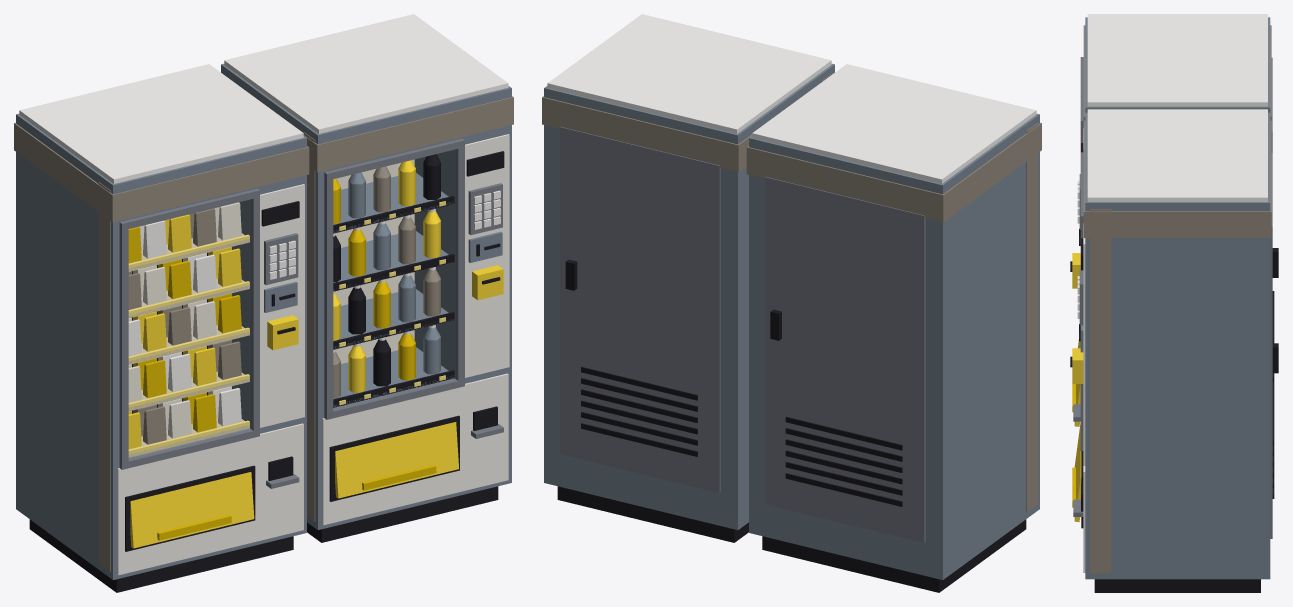
Rendered from subway-vending-machines.glb.
3 renders of one model, left to right at view 1: azimuth 30°, elevation 25°; view 2: azimuth 150°, elevation 25°; view 3: azimuth 270°, elevation 25°, orthographic. The views are drawn at different scales.
Visible parts, largest first — view 1: body_steel, header_tile_white_light, body_tile_white, window_mid_grey, header_line_colour, flap_safety_yellow, body_line_colour, products_safety_yellow_dark, products_line_colour, products_safety_yellow, body_soot_black, window_steel (+15 smaller); view 2: body_mid_grey, body_steel, header_tile_white_light, body_soot_black, header_line_colour, body_line_colour; view 3: body_steel, header_tile_white_light, body_line_colour, header_line_colour, body_soot_black, body_mid_grey, body_tile_white, window_mid_grey, payment_safety_yellow, payment_mid_grey, flap_safety_yellow, payment_soot_black.
Part boxes in pixels (x1,y1,x2,y2): body_steel: [16, 63, 511, 579]; header_tile_white_light: [19, 14, 508, 183]; body_tile_white: [117, 134, 509, 575]; window_mid_grey: [119, 138, 464, 469]; header_line_colour: [14, 96, 513, 222]; flap_safety_yellow: [130, 422, 458, 548]; body_line_colour: [98, 132, 315, 571]; products_safety_yellow_dark: [128, 178, 415, 432]; products_line_colour: [128, 166, 440, 444]; products_safety_yellow: [128, 160, 440, 449]; body_soot_black: [29, 486, 498, 592]; window_steel: [333, 173, 454, 407]; body_mid_grey: [560, 126, 925, 542]; body_steel: [544, 63, 1039, 579]; header_tile_white_light: [547, 14, 1036, 183]; body_soot_black: [557, 259, 1026, 592]; header_line_colour: [542, 96, 1041, 222]; body_line_colour: [821, 73, 1037, 512]; body_steel: [1085, 17, 1270, 579]; header_tile_white_light: [1087, 14, 1267, 201]; body_line_colour: [1090, 209, 1111, 573]; header_line_colour: [1083, 25, 1271, 237]; body_soot_black: [1094, 248, 1278, 592]; body_mid_grey: [1270, 57, 1272, 538]; body_tile_white: [1083, 128, 1085, 572]; window_mid_grey: [1080, 57, 1083, 450]; payment_safety_yellow: [1072, 253, 1083, 383]; payment_mid_grey: [1073, 174, 1083, 516]; flap_safety_yellow: [1074, 340, 1081, 522]; payment_soot_black: [1070, 143, 1083, 511].
Bounding box in the file's own units: 1.86 × 1.85 × 0.878.
